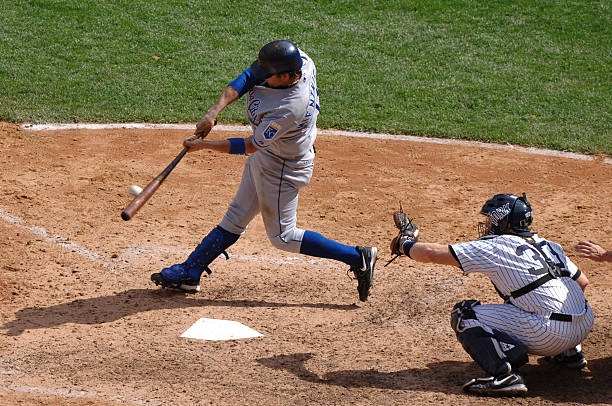bita: (114, 134, 198, 220)
